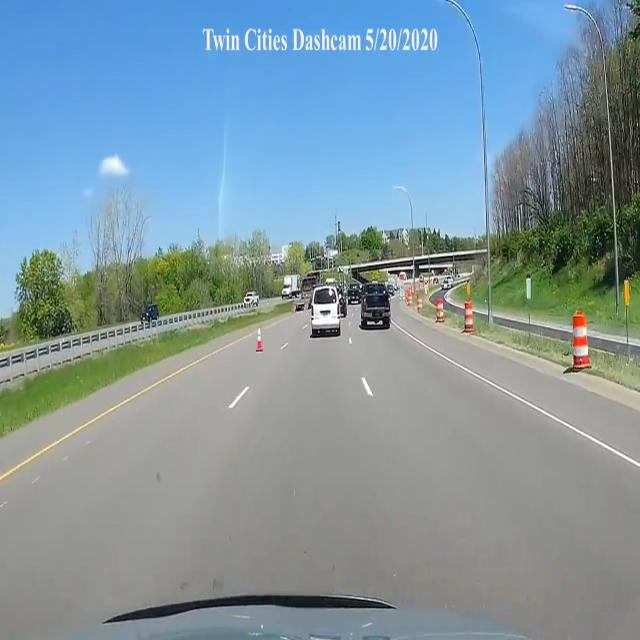Traffic Cone: (254, 328, 266, 351)
